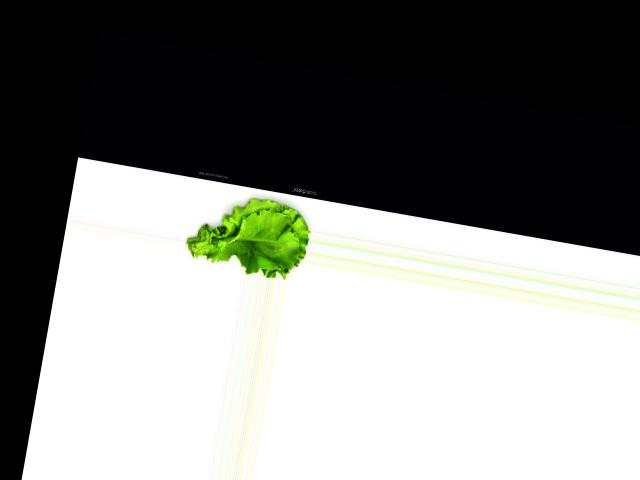lettuce: (185, 181, 315, 284)
